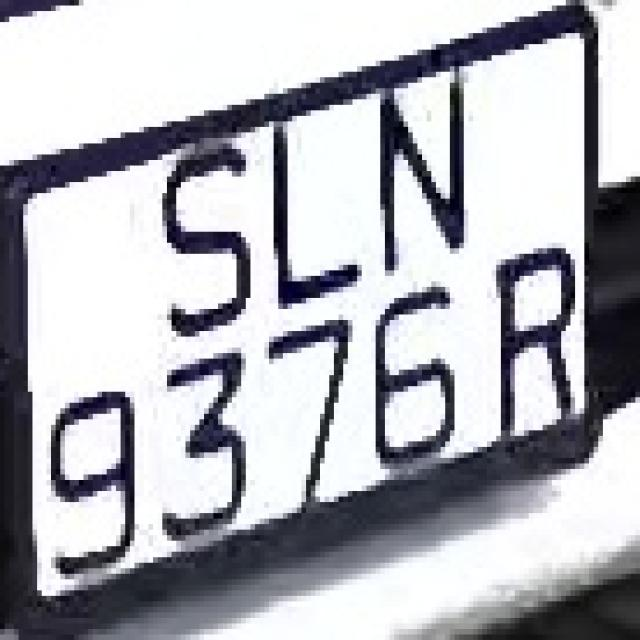3: (144, 337, 269, 540)
6: (366, 270, 464, 469)
7: (255, 287, 357, 513)
9: (37, 381, 149, 579)
L: (255, 94, 371, 303)
N: (366, 61, 478, 270)
R: (487, 232, 584, 441)
S: (139, 121, 260, 331)
